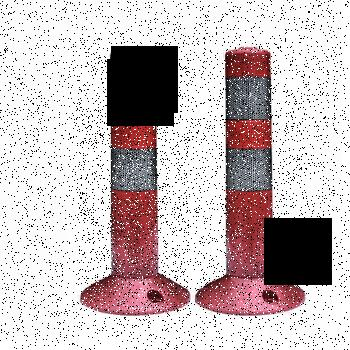bench: (195, 43, 311, 314), (79, 42, 190, 313)
